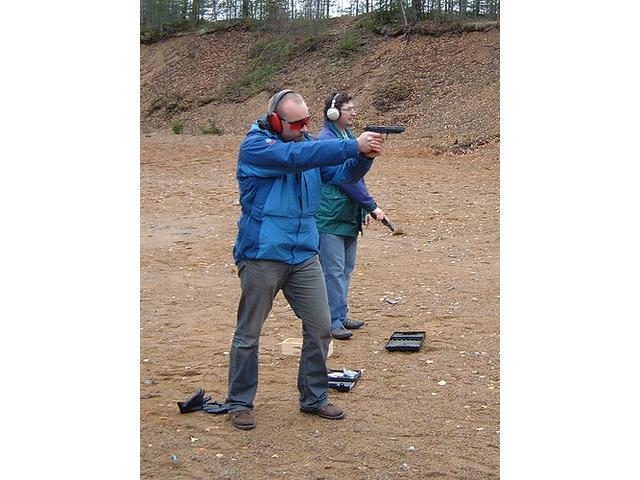pistol: (360, 123, 405, 159), (370, 209, 398, 231)
